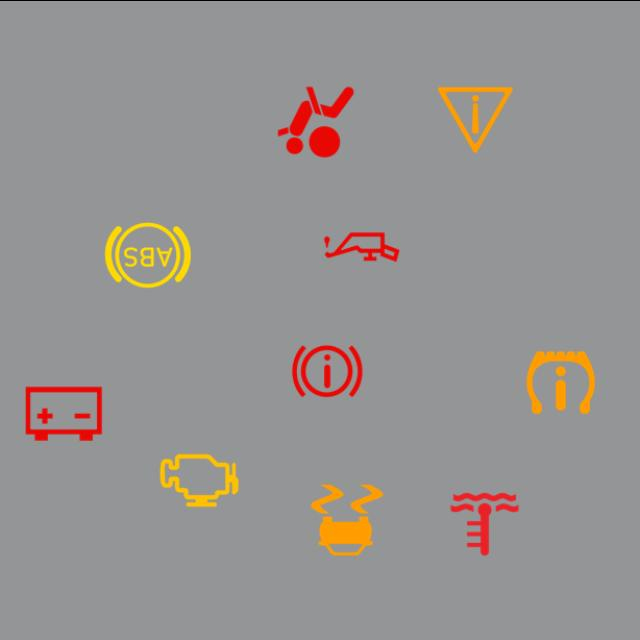Anti Lock Braking System: (101, 208, 195, 302)
Braking System Issue: (280, 323, 374, 417)
Charging System Issue: (16, 366, 110, 460)
Check Engine: (152, 432, 246, 526)
Electronic Stability Problem -ESP-: (300, 472, 394, 566)
Engine Overheating Warning Light: (438, 476, 532, 570)
Low Engine Oil Warning Light: (314, 199, 408, 293)
Low Tire Pressure Warning Light: (514, 334, 608, 428)
Master warning light: (428, 72, 522, 166)
SRS-Airbag: (269, 74, 363, 168)
